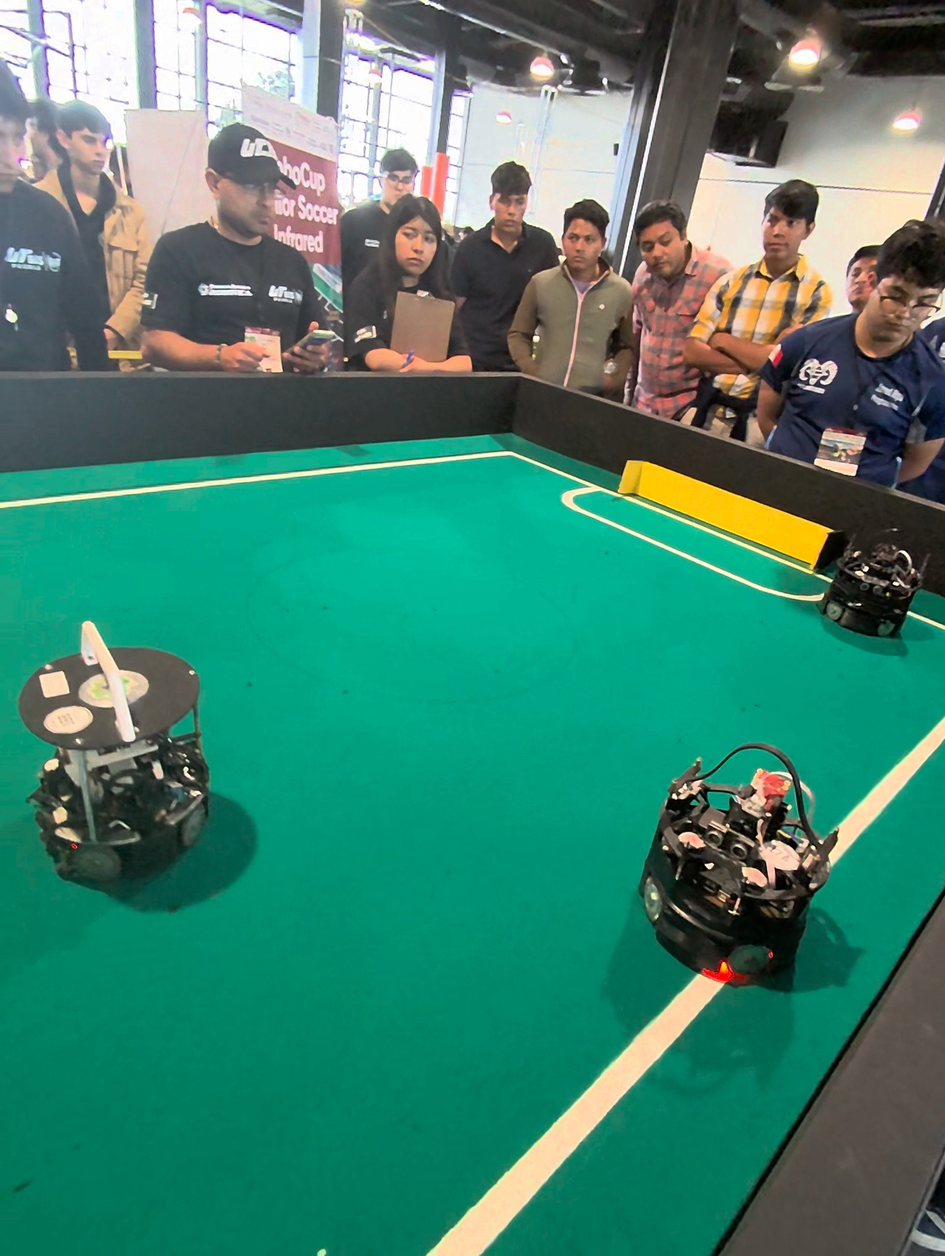Robot: (5, 601, 244, 913), (640, 728, 842, 1003), (816, 525, 917, 648)
